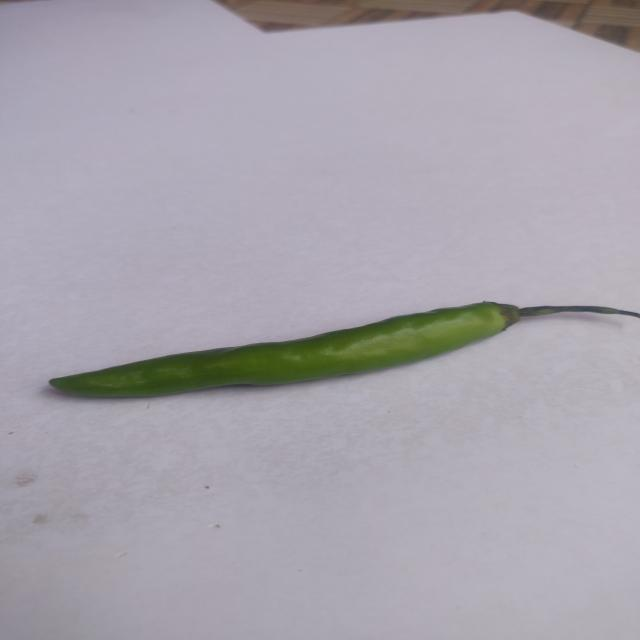Green Chilly: (37, 290, 640, 412)
